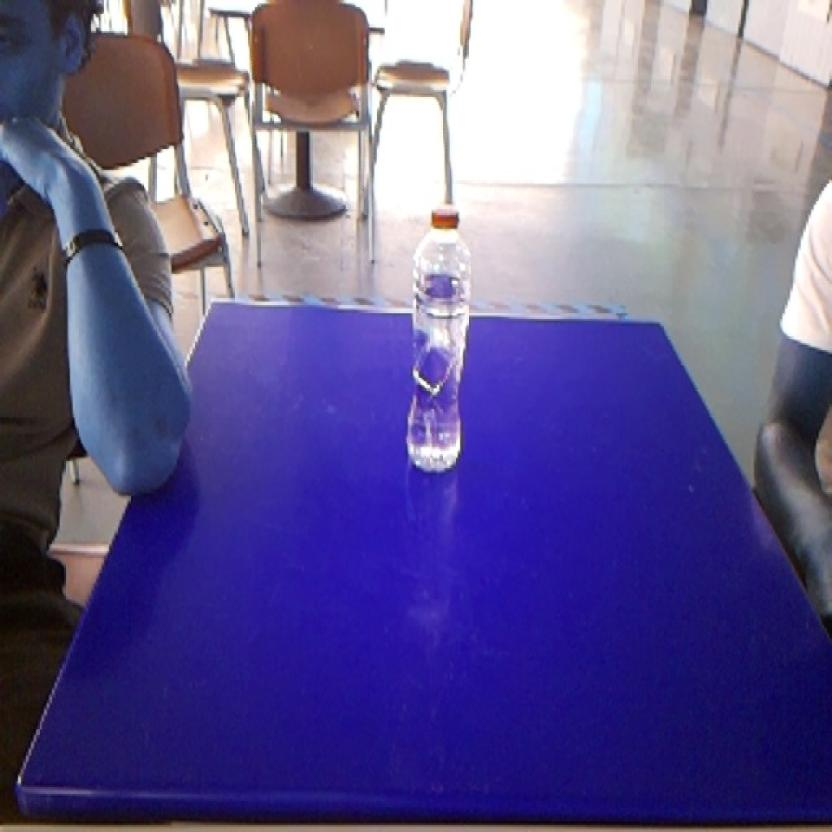no_label: (392, 196, 480, 490)
